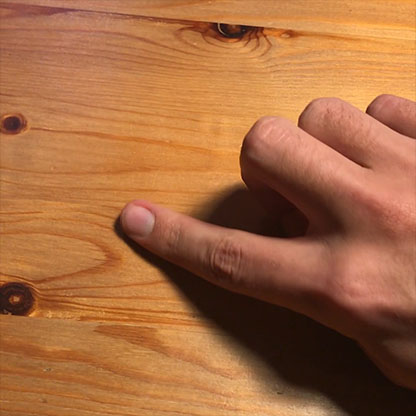fingertip: (119, 196, 164, 245)
